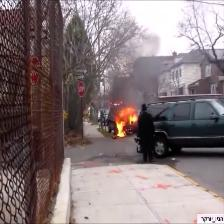fire: (108, 105, 145, 143)
smoke: (123, 21, 165, 101)
